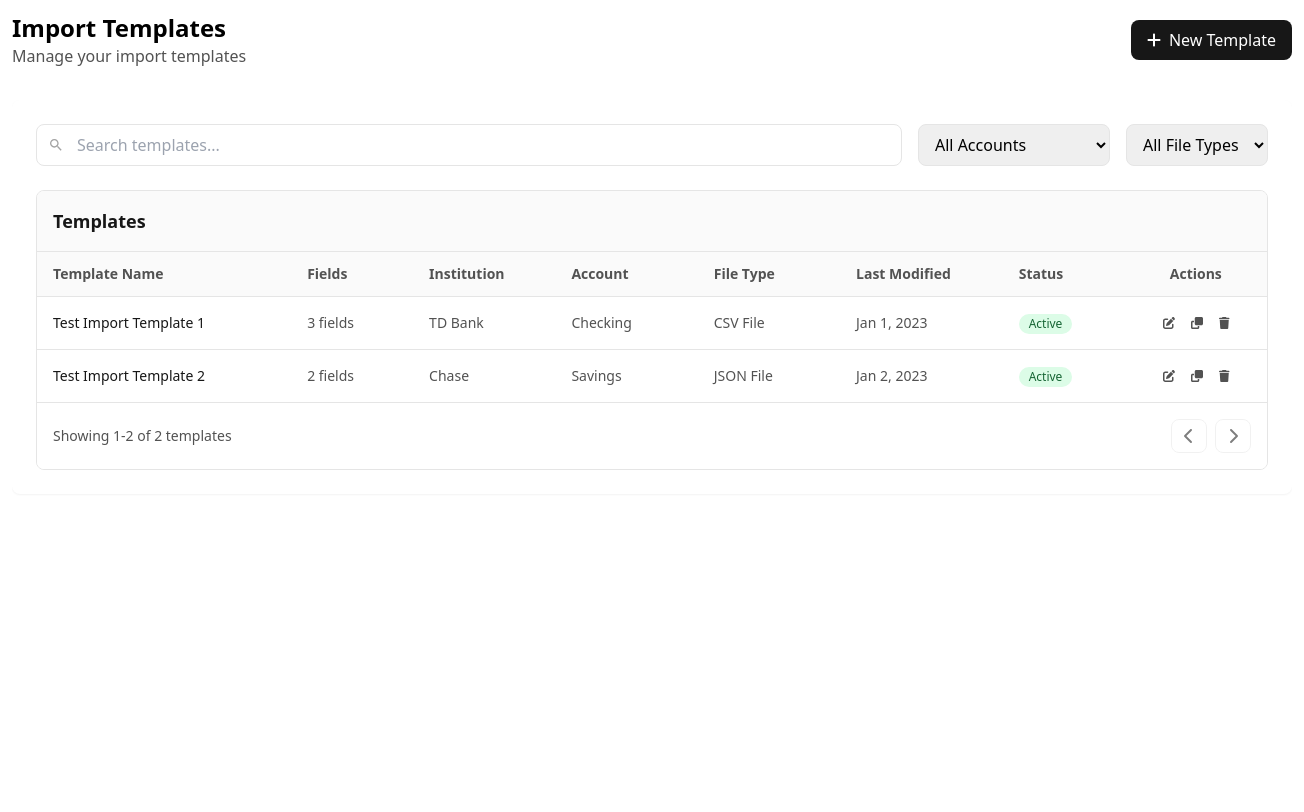
Test case: ImportTemplatesPage › Template Editing › should show template editor when edit action is clicked
This screenshot has width=1304, height=812.
Expected: the text "Test Import Template 1" is shown, [53,313,205,332]
# Find and click edit button (this might be in a dropdown or action menu)
Click the button named "edit" in the row of "Test Import Template 1": click(1169, 323) [1157,309,1181,337]
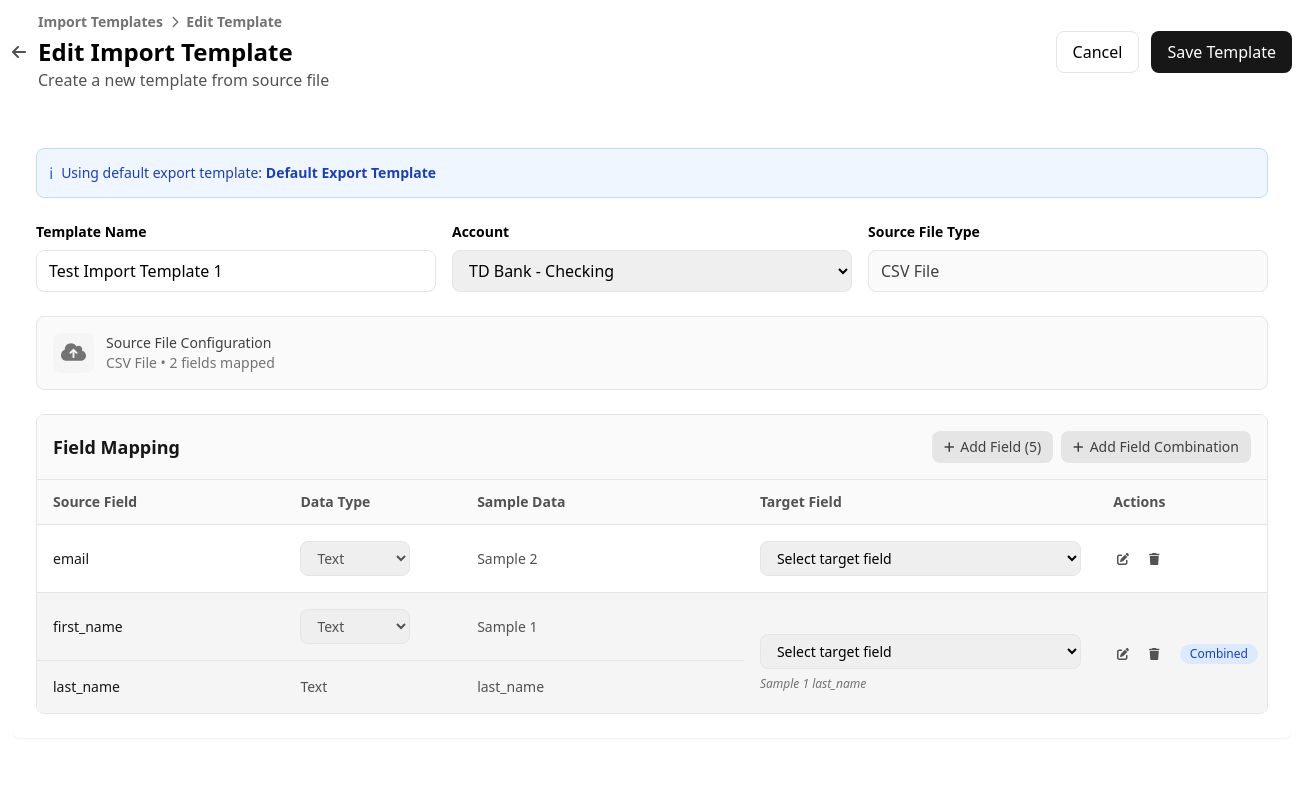
Now the heading "Edit Import Template" is shown, box [38,36,329,68]
